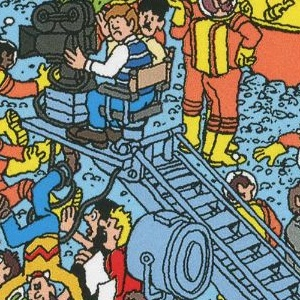Charlie: (126, 106, 174, 194)
